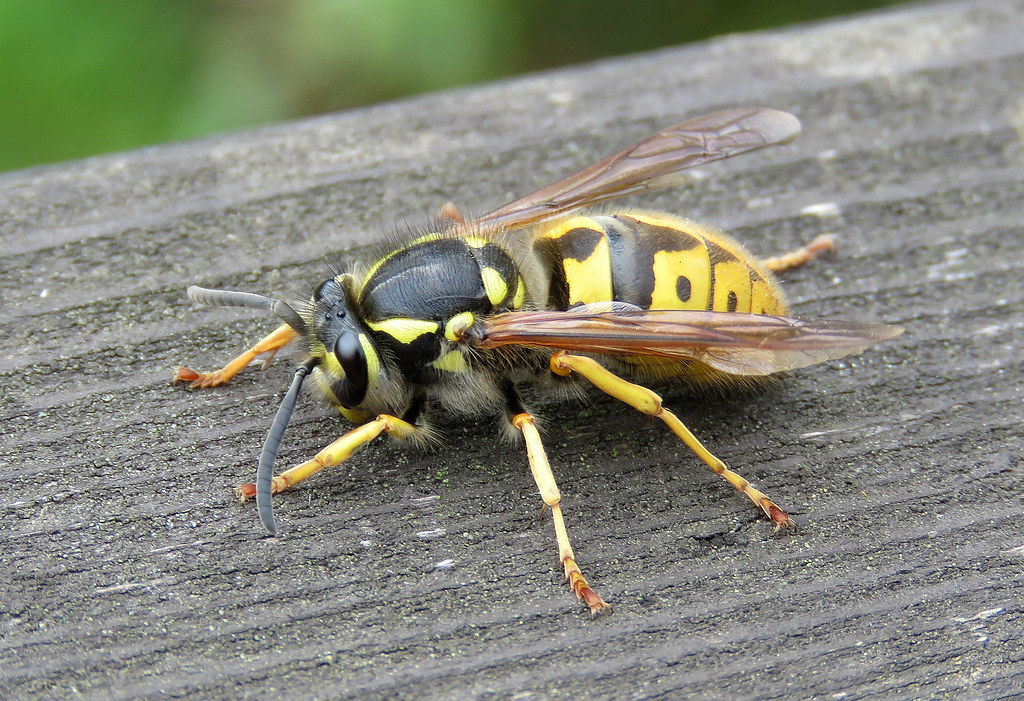chax: (128, 71, 884, 627)
